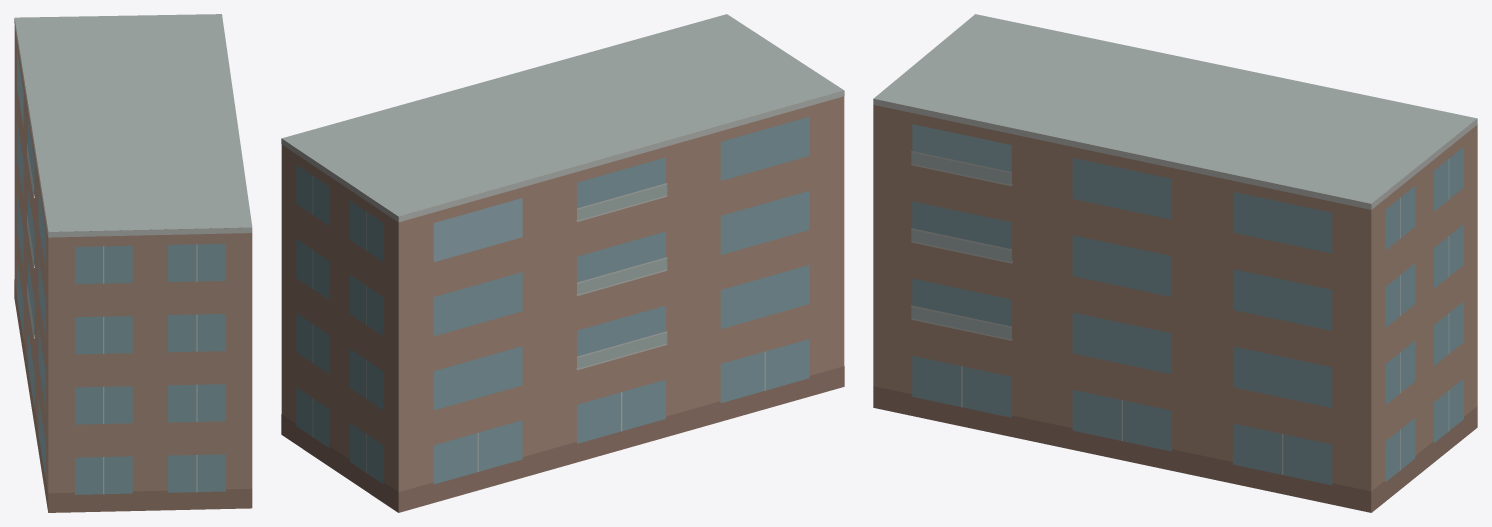
The model's file is survey-upis-32885234.glb.
3 views of the same model, side by side, from view 1: azimuth 30°, elevation 25°; view 2: azimuth 150°, elevation 25°; view 3: azimuth 270°, elevation 25° (orthographic). The views are drawn at different scales.
Parts seen in each view (by area): view 1: survey-upis-32885234.tmp; view 2: survey-upis-32885234.tmp; view 3: survey-upis-32885234.tmp.
Boxes of the visible parts, x1,y1,x2,y2 form: survey-upis-32885234.tmp: (14, 14, 252, 512); survey-upis-32885234.tmp: (281, 14, 844, 512); survey-upis-32885234.tmp: (873, 14, 1477, 512).
Size of the model in its own units: 16.35 by 12.4 by 21.98.
